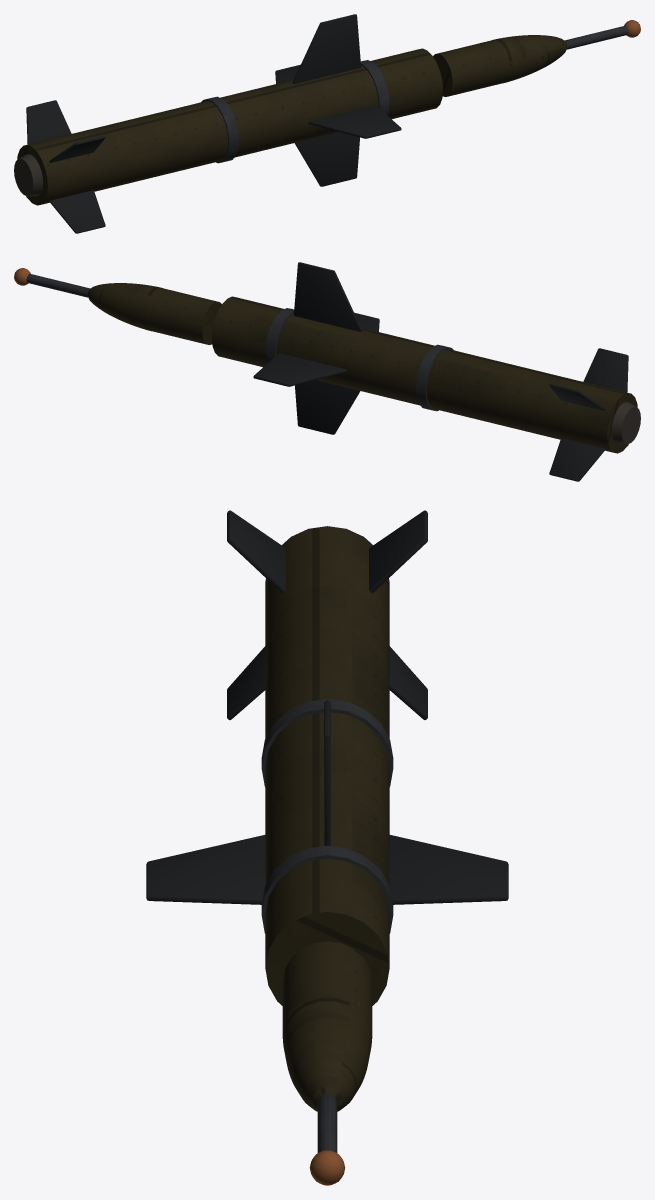
File: mun_atgm.glb
3 views of the same model, one above another, from view 1: azimuth 30°, elevation 25°; view 2: azimuth 150°, elevation 25°; view 3: azimuth 270°, elevation 25° (orthographic). The views are drawn at different scales.
Parts seen in each view (by area): view 1: mun_atgm; view 2: mun_atgm; view 3: mun_atgm.
Part boxes in pixels (box(x1,y1,x2,y2)): mun_atgm: box(14, 14, 640, 233); mun_atgm: box(14, 262, 640, 481); mun_atgm: box(146, 510, 508, 1185).
Size of the model in its own units: 1.76 by 0.4486 by 0.4486.
Materials: 5 (2 with a texture image).
